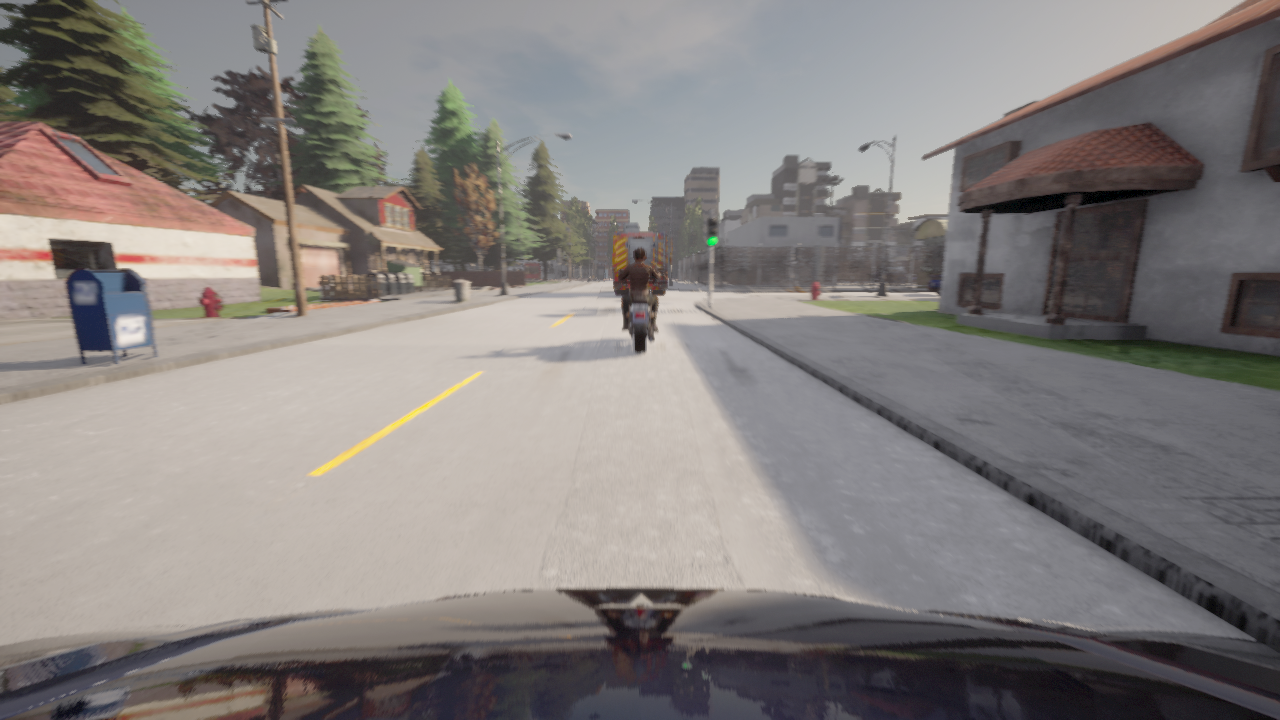cyclist: (0, 588, 1279, 719), (613, 223, 666, 295), (619, 270, 661, 353), (870, 268, 902, 281), (927, 275, 941, 294), (890, 271, 908, 280), (884, 273, 896, 281), (907, 274, 916, 281)
